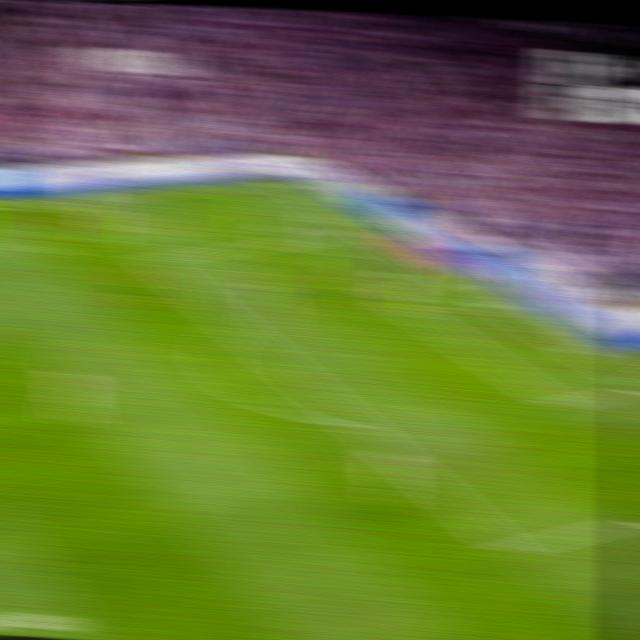bigarea_bottom_inner: (492, 533, 528, 563)
bigarea_top_inner: (138, 248, 169, 269)
bigarea_top_outter: (349, 222, 381, 240)
bottom_arc_area_intersection: (340, 409, 374, 436)
corner: (263, 175, 296, 188)
smallarea_bottom_inner: (544, 392, 576, 415)
smallarea_top_inner: (367, 282, 398, 300)
smallarea_top_outter: (436, 274, 465, 288)
top_arc_area_intersection: (219, 314, 252, 335)
